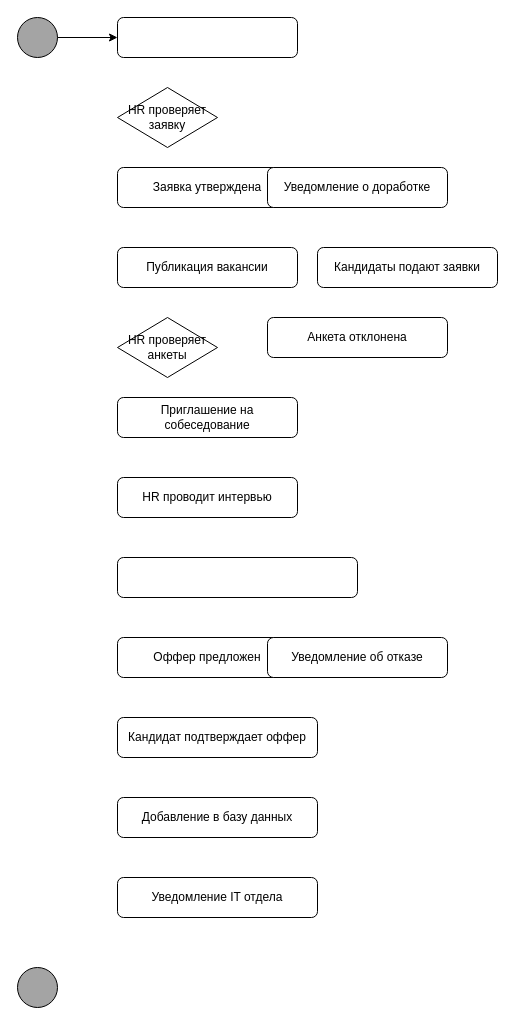
Image size: 515x1025. Some labels were removed from this diagram. Here are the shapes that lost their labels. From the top down, the box of each, then its label:
(116, 16, 298, 58): Руководитель создает заявку
(116, 556, 358, 598): Руководитель проводит техническое собеседование
